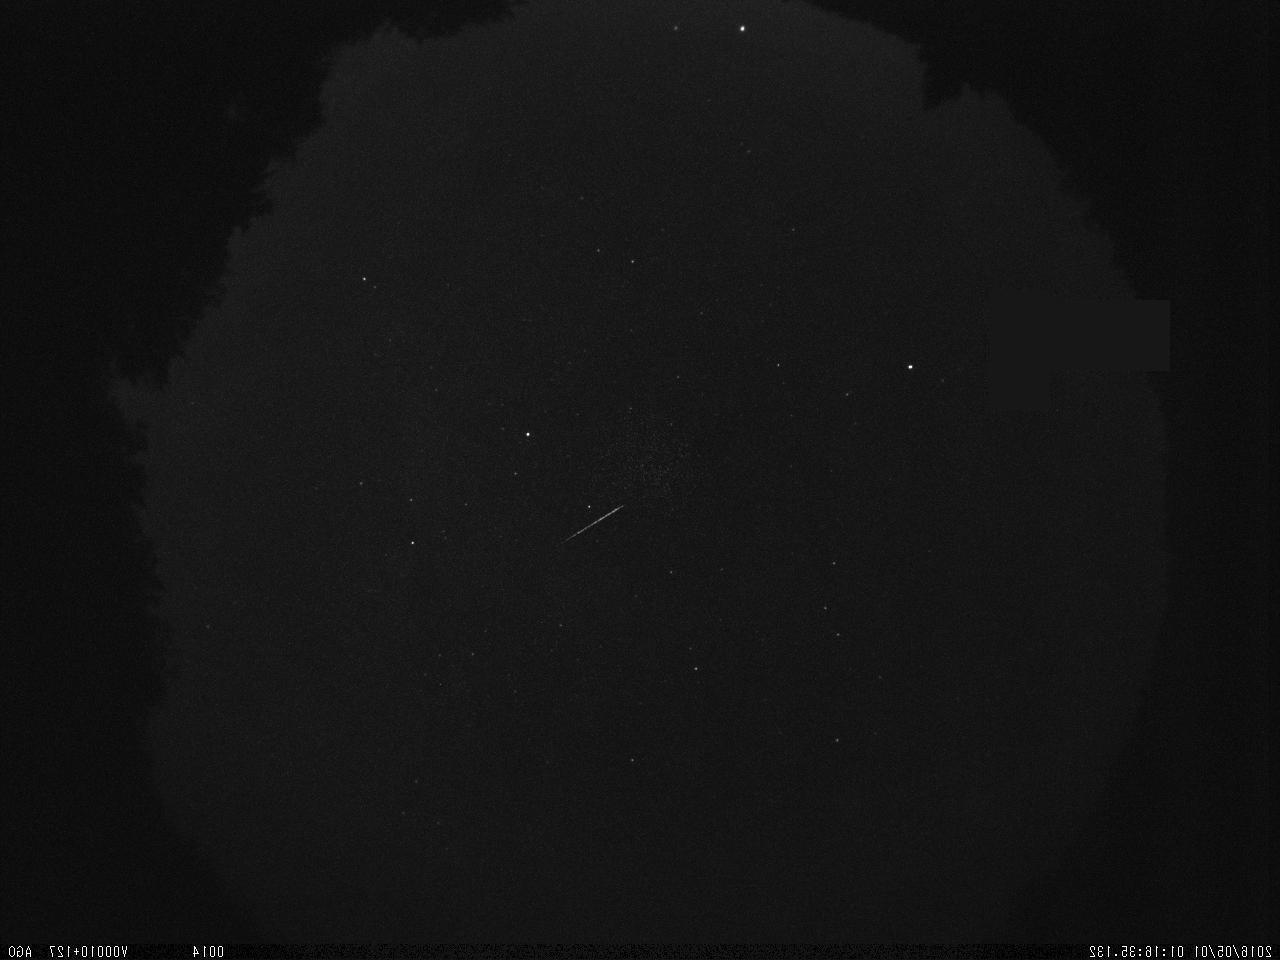meteor: (554, 496, 639, 551)
